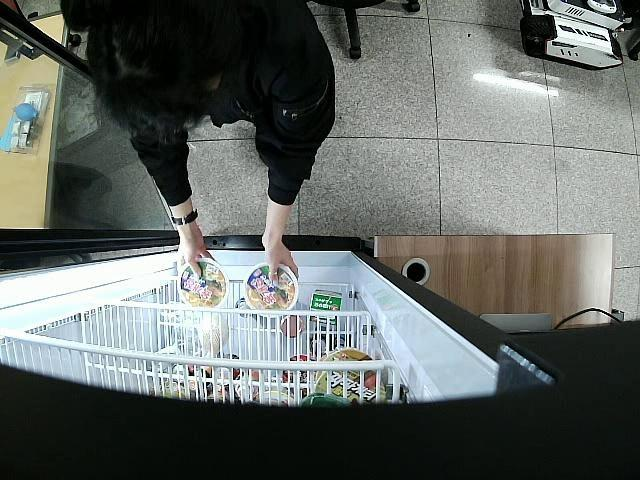09_yukGaeJang: (242, 263, 298, 320), (176, 258, 228, 310)
